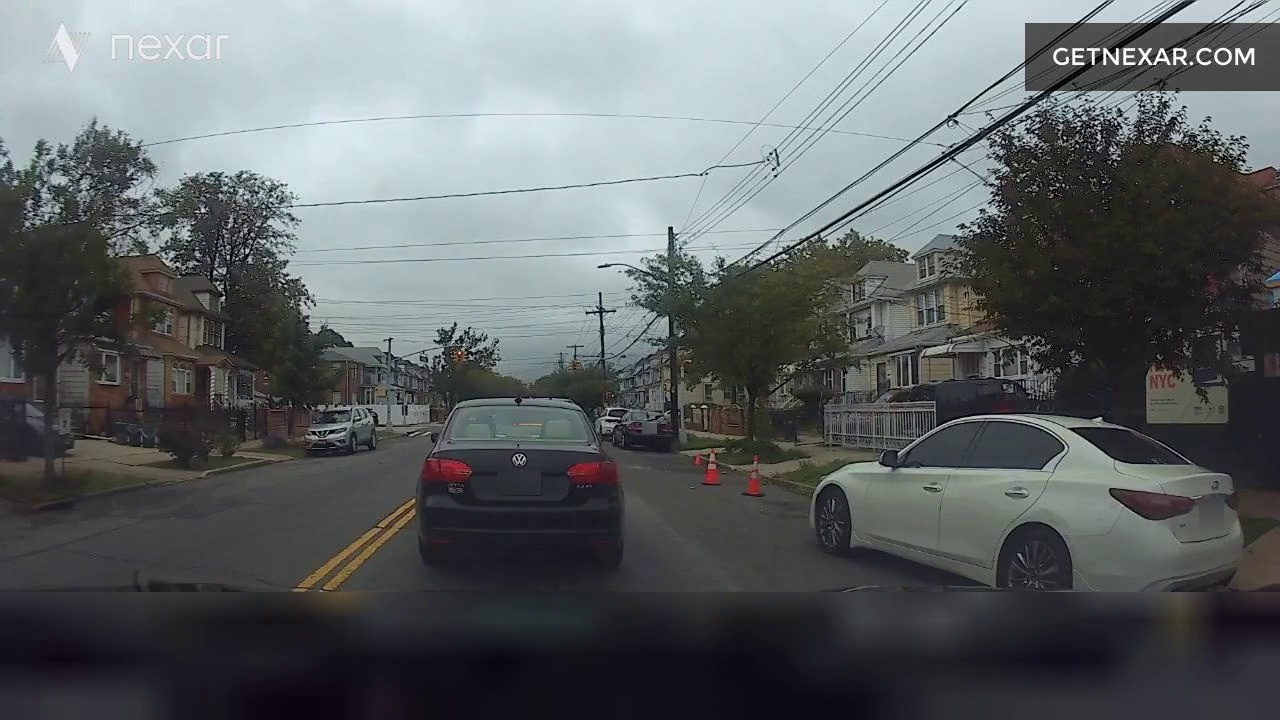car: (786, 409, 1246, 586), (410, 398, 622, 569), (300, 407, 381, 461), (633, 396, 682, 456)
traffic light: (431, 336, 482, 379)
